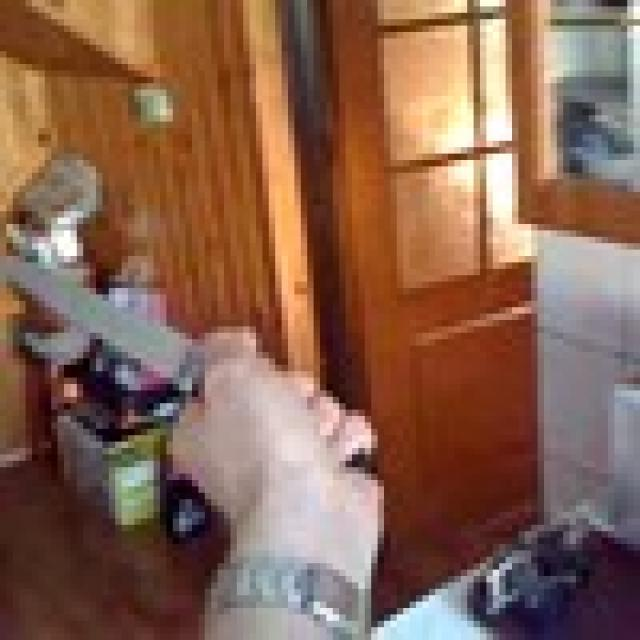Knife: (19, 250, 224, 422)
